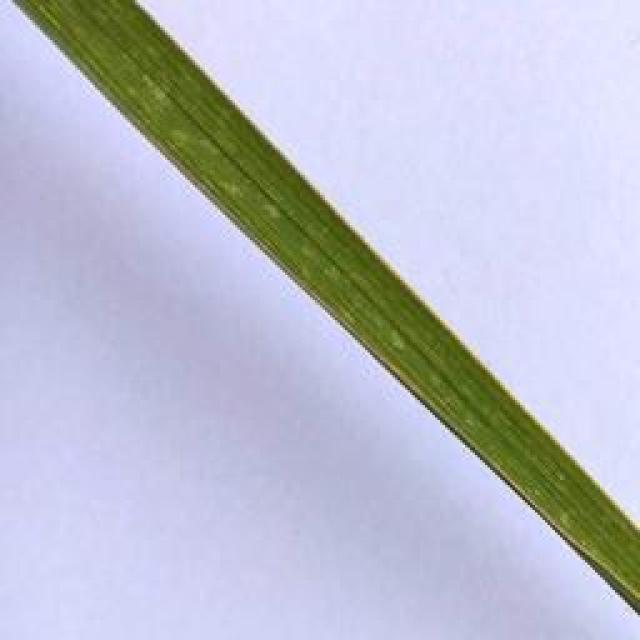Healthy-Plant: (7, 0, 640, 612)
